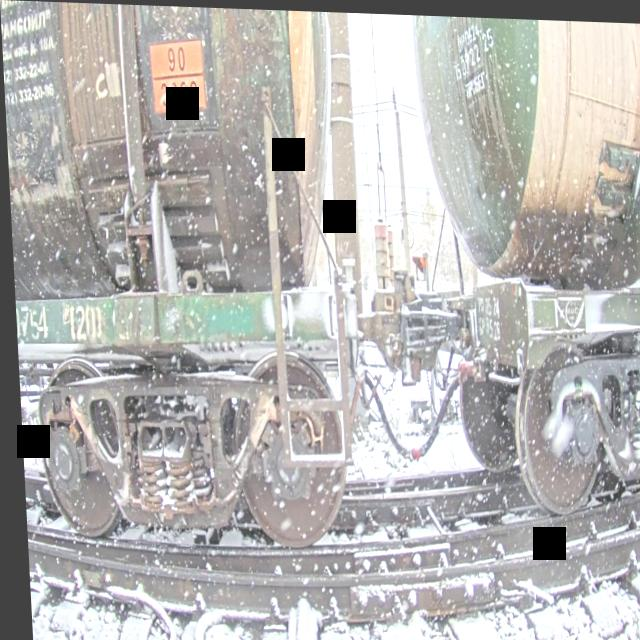tank: (0, 0, 387, 567), (386, 11, 640, 533)
